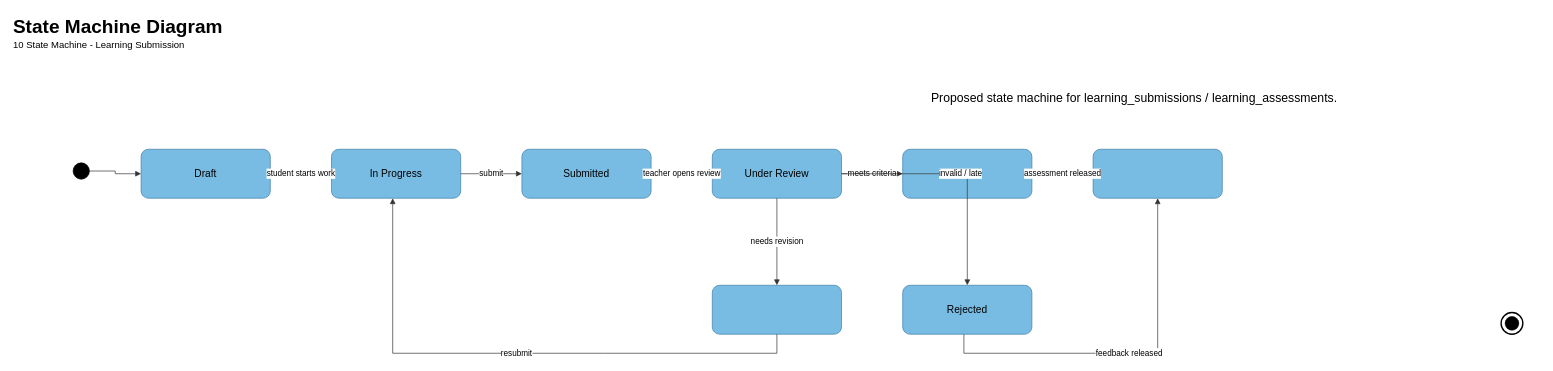
The diagram is 1553 pixels wide and 371 high, and some of its shapes have lost their labels. Each missing label, with the centre of its shape:
Accepted: point (967, 173)
Published Feedback: point (1157, 173)
Returned: point (777, 309)
